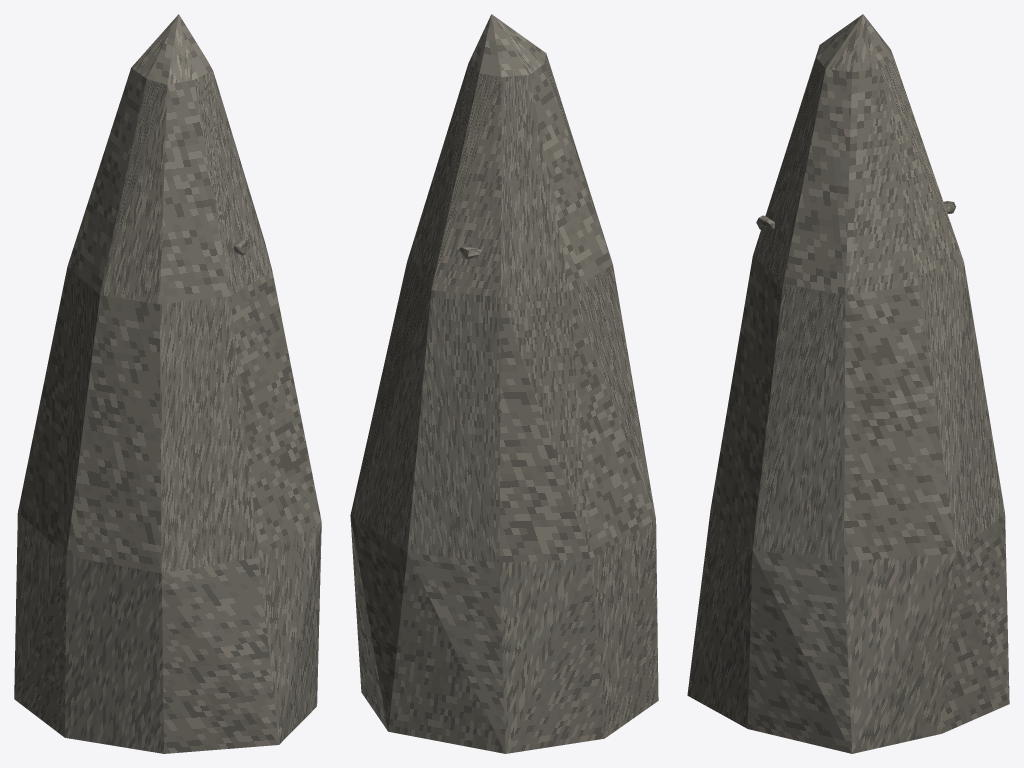
File: f_gravel_mound_tall.glb
3 views of the same model, side by side, from view 1: azimuth 30°, elevation 25°; view 2: azimuth 150°, elevation 25°; view 3: azimuth 270°, elevation 25° (orthographic).
Parts seen in each view (by area): view 1: block_heaped-gravel; view 2: block_heaped-gravel; view 3: block_heaped-gravel.
Boxes of the visible parts, x1=… form: block_heaped-gravel: x1=14, y1=14, x2=321, y2=753; block_heaped-gravel: x1=350, y1=14, x2=658, y2=753; block_heaped-gravel: x1=687, y1=14, x2=1009, y2=753.
Size of the model in its own units: 0.8923 by 2.1 by 0.9081.
1 material, 1 textured.
